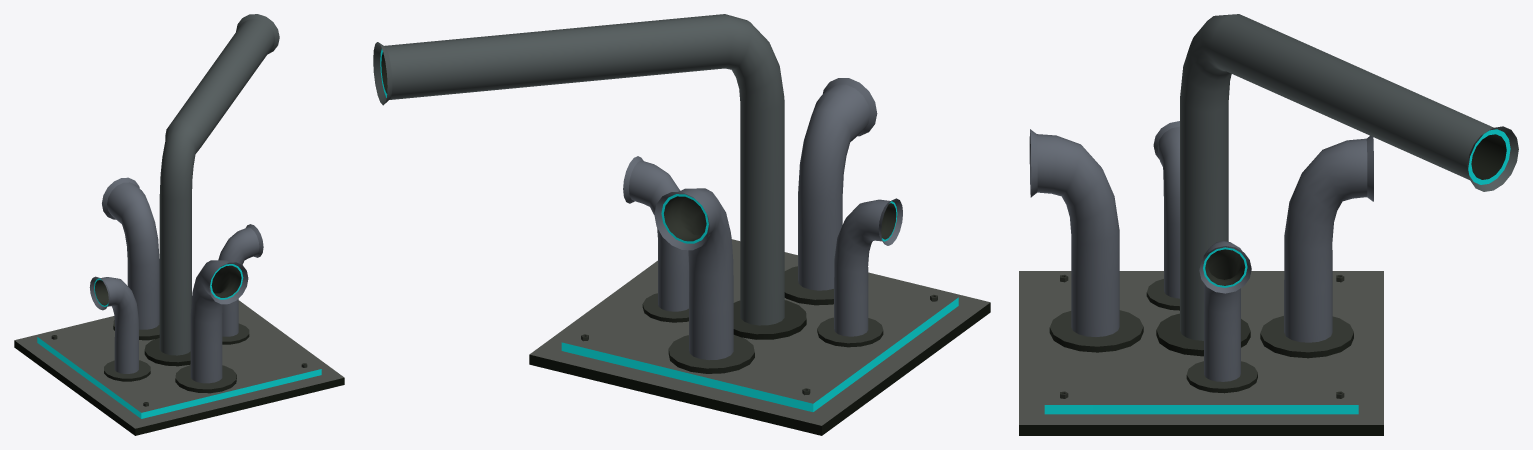
Rendered from Pipes_C.glb.
The picture shows the model from 3 angles, left to right: view 1: azimuth 30°, elevation 25°; view 2: azimuth 150°, elevation 25°; view 3: azimuth 270°, elevation 25°; orthographic projection. The views are drawn at different scales.
Visible parts, largest first — view 1: Pipe_Group; view 2: Pipe_Group; view 3: Pipe_Group.
Part boxes in pixels (box(x1,y1,x2,y2)): Pipe_Group: box(14, 14, 344, 435); Pipe_Group: box(373, 14, 990, 435); Pipe_Group: box(1019, 14, 1518, 435).
Size of what is drawn, in the model's own units: 3.88 by 3.01 by 3.79.
Materials: 1 (1 with a texture image).
